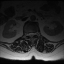CCS_normal: (30, 31, 32, 38)
LFS_normal: (34, 31, 36, 36)
LLS_normal: (32, 31, 34, 37)
RFS_normal: (26, 31, 28, 37)
RLS_normal: (28, 31, 30, 37)
